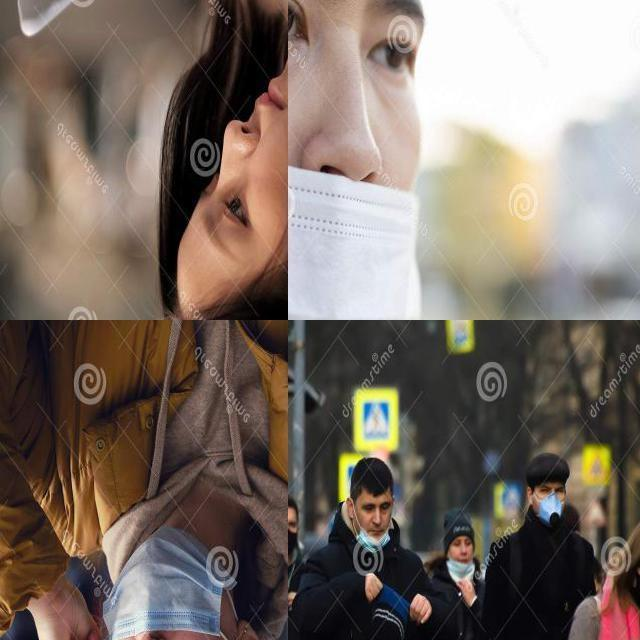hairnet: (288, 73, 424, 319), (358, 513, 392, 551), (449, 549, 473, 576)
